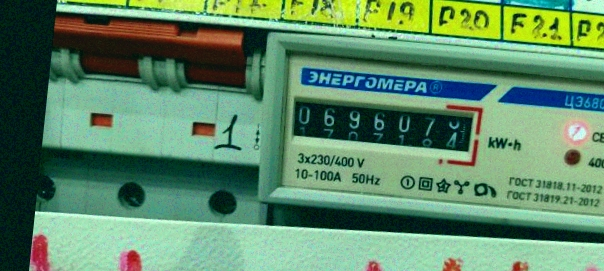0: (395, 111, 412, 134), (295, 103, 311, 126)
4: (443, 129, 458, 151)
6: (320, 105, 336, 127), (370, 110, 386, 132)
7: (419, 115, 437, 138)
9: (345, 108, 360, 130)
screen: (276, 85, 487, 165)
